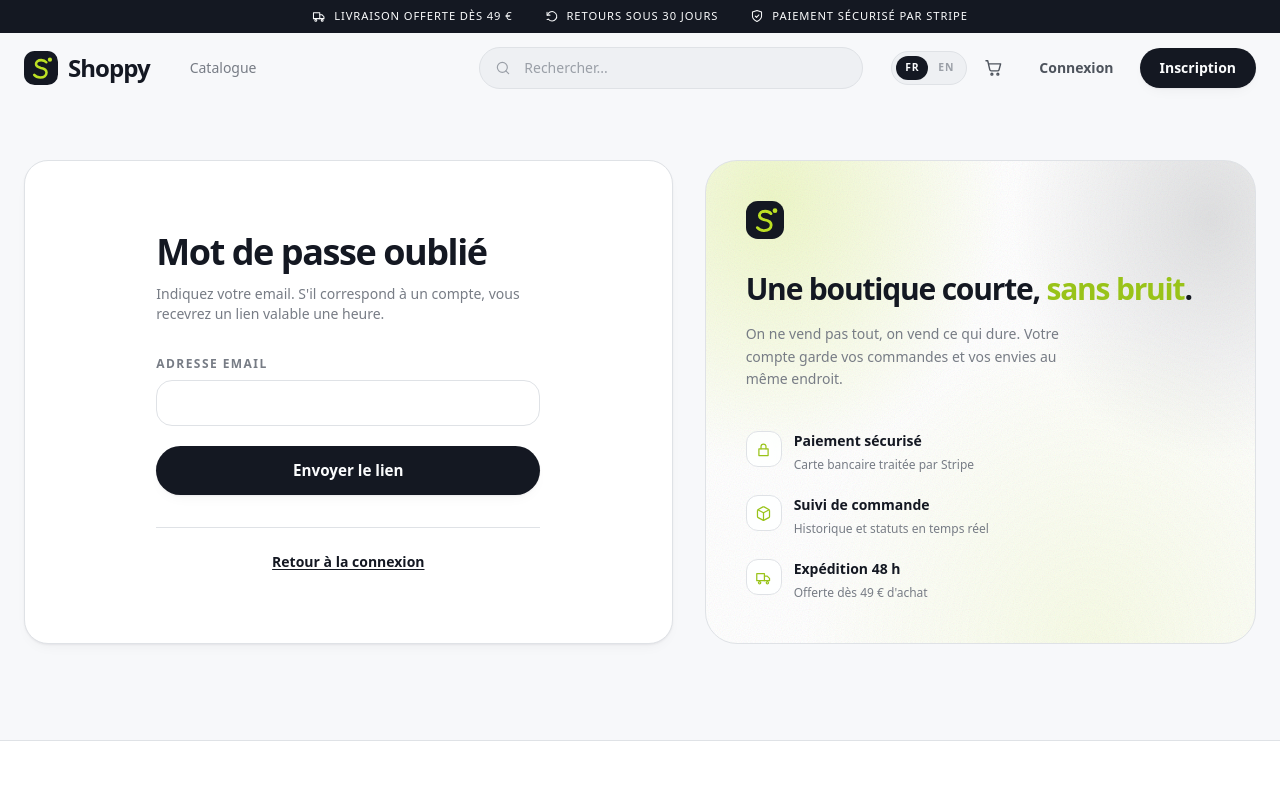
it: account security pages › requests a password reset without confirming the account exists
Step 1. Type "ada@shoppy.test" into the field labelled "Adresse email" → (348, 403), box [156,380,540,426]
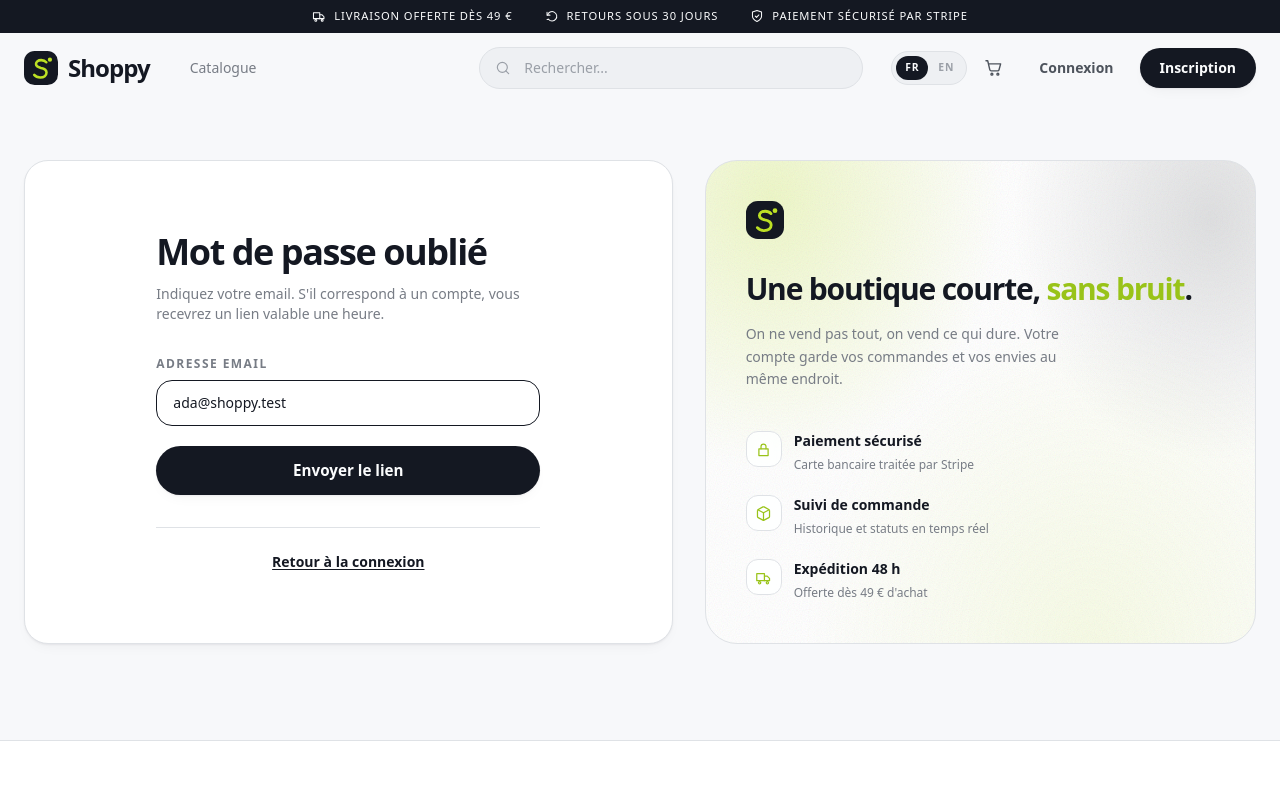
Step 2. Click the button "Envoyer le lien" → (348, 470), box [156,446,540,495]
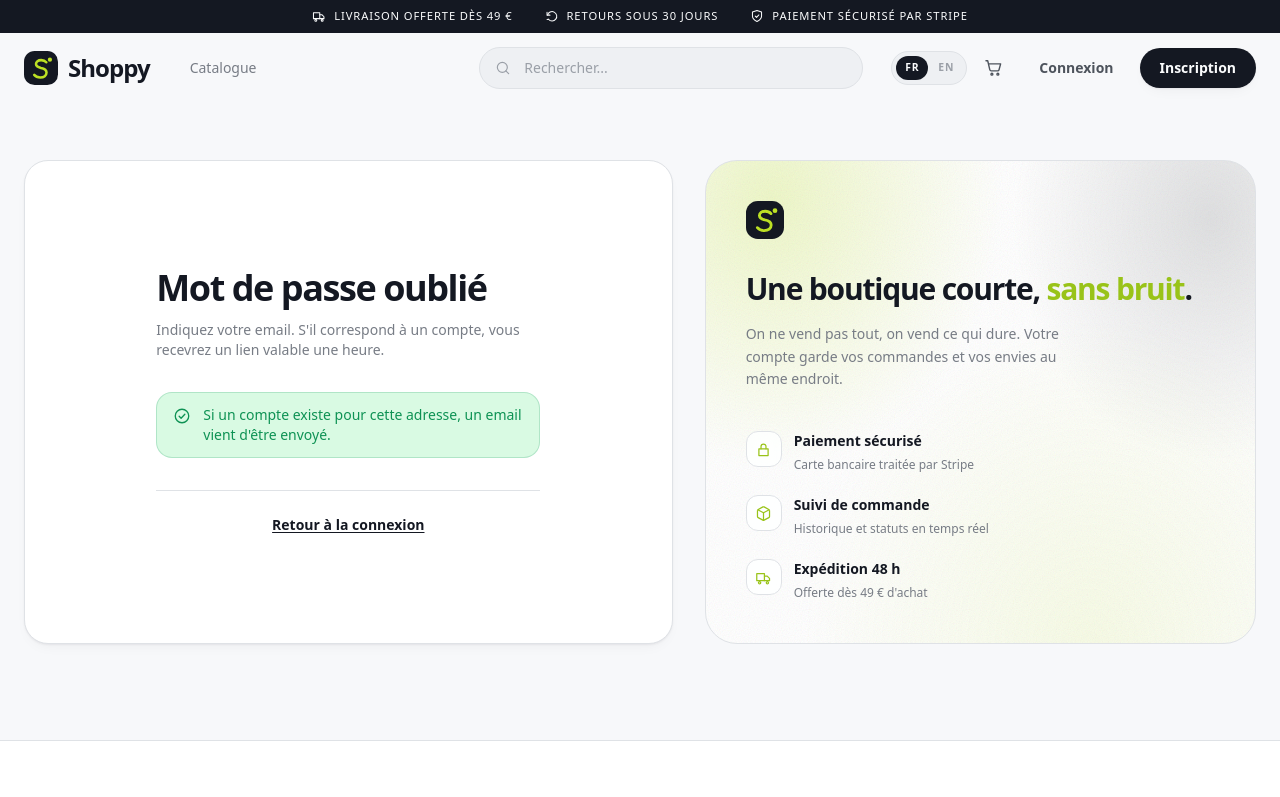
Check: the message shows "Si un compte existe", box [203,405,522,444]
